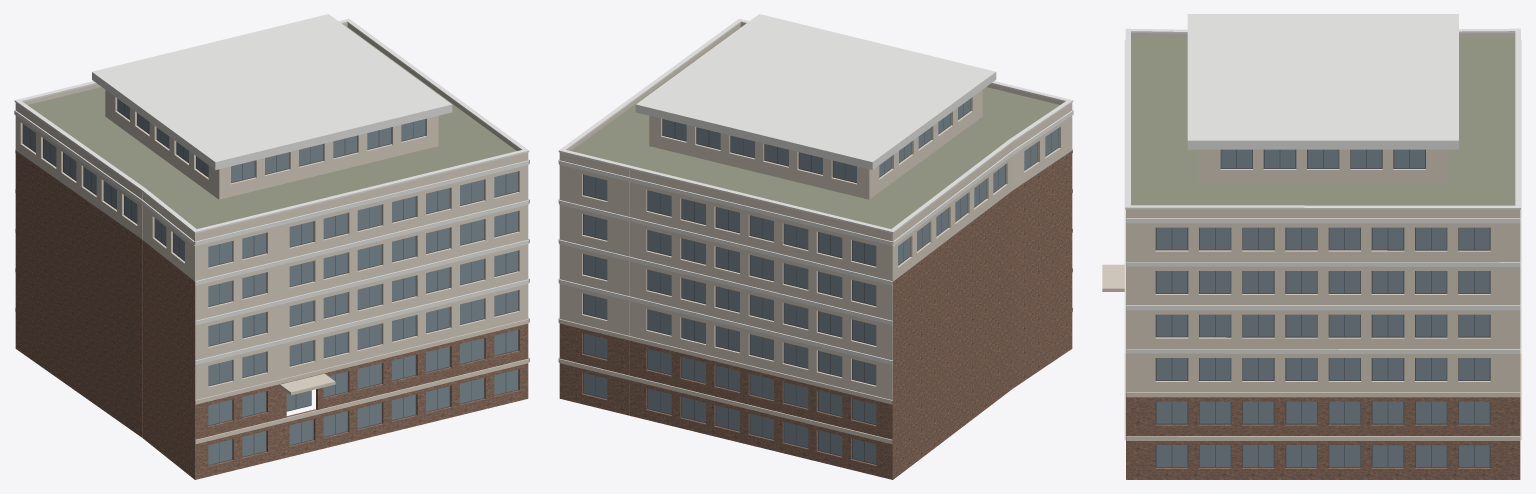
3 views of the same model, side by side, from view 1: azimuth 30°, elevation 25°; view 2: azimuth 150°, elevation 25°; view 3: azimuth 270°, elevation 25° (orthographic). The views are drawn at different scales.
Visible parts, largest first — view 1: library2__cream, library2__brick, library2__white, library2__glass, library2__roofg, library2__frame; view 2: library2__cream, library2__brick, library2__white, library2__glass, library2__roofg, library2__frame; view 3: library2__cream, library2__white, library2__glass, library2__roofg, library2__brick, library2__frame.
Boxes of the visible parts, x1,y1,x2,y2 form: library2__cream: (15,23,529,443); library2__brick: (15,151,528,479); library2__white: (14,14,529,364); library2__glass: (23,99,517,464); library2__roofg: (28,27,516,228); library2__frame: (22,99,518,465); library2__cream: (558,23,1072,443); library2__brick: (559,151,1072,479); library2__white: (558,14,1073,364); library2__glass: (583,99,1058,463); library2__roofg: (571,27,1059,228); library2__frame: (583,99,1058,464); library2__cream: (1102,33,1521,440); library2__white: (1124,14,1521,353); library2__glass: (1156,149,1489,467); library2__roofg: (1131,37,1515,205); library2__brick: (1126,393,1520,479); library2__frame: (1155,149,1490,467).
Size of the model in its own units: 35.45 by 28.8 by 34.96.
Materials: 6 (1 with a texture image).
